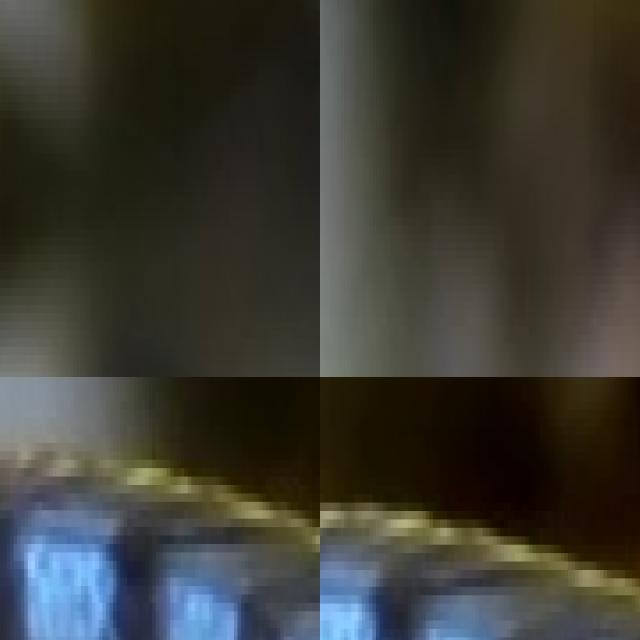fish: (0, 1, 320, 377), (320, 377, 640, 629)
